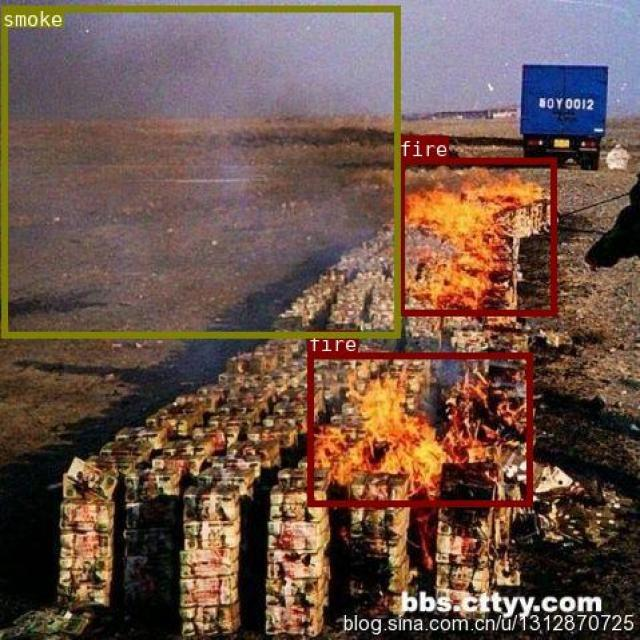fire: (307, 352, 531, 506), (397, 156, 555, 314)
smoke: (1, 5, 399, 337)
